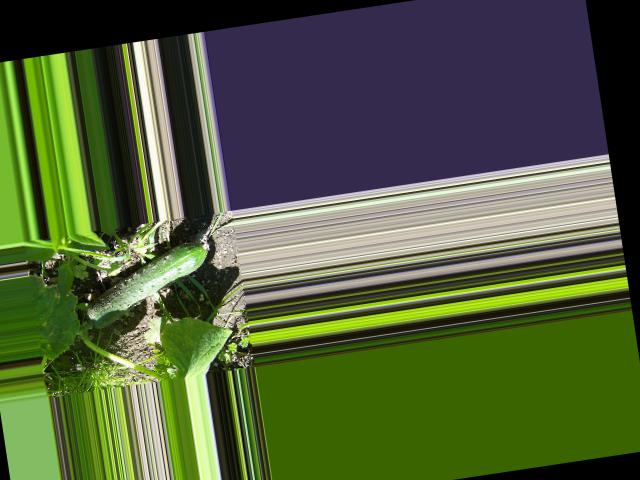cucumber: (76, 239, 218, 330)
